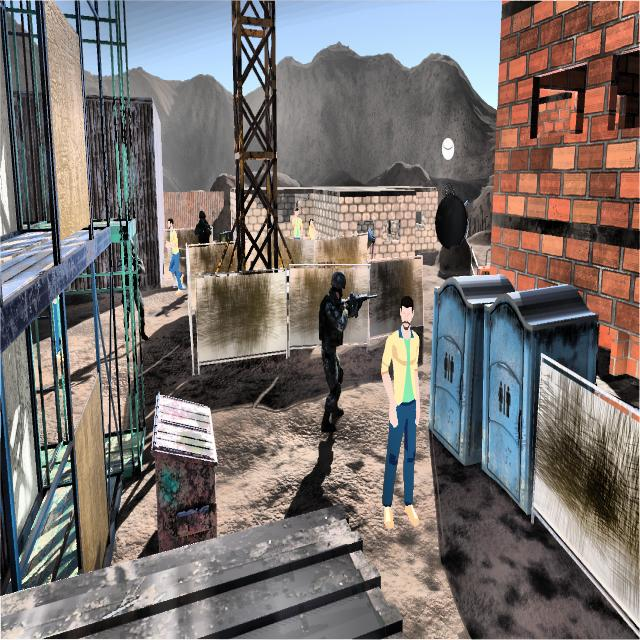bad: (308, 267, 359, 438), (121, 241, 150, 341), (192, 203, 214, 249)
good: (374, 294, 428, 536), (163, 214, 187, 302), (291, 202, 302, 238), (305, 216, 317, 240)
